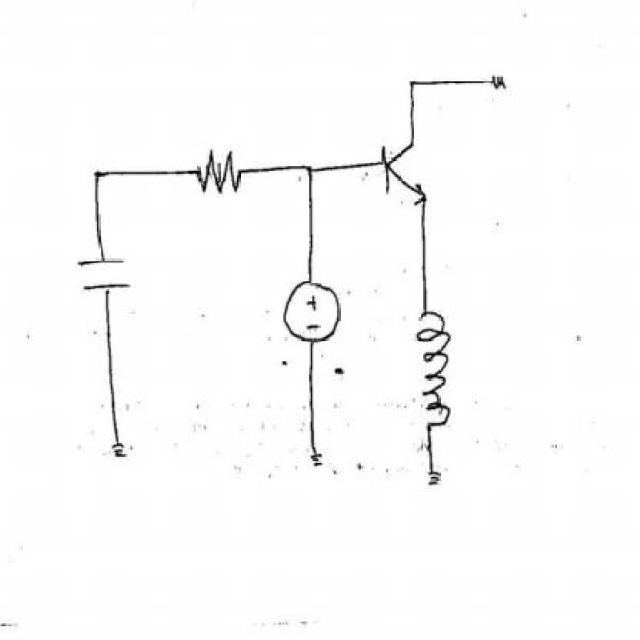capacitor: (76, 250, 134, 300)
ground: (105, 434, 136, 468), (303, 445, 332, 476), (421, 464, 449, 491), (486, 75, 511, 101)
inductor: (408, 306, 469, 434)
resistor: (194, 135, 246, 199)
transistor: (376, 142, 427, 208)
voltage_source: (277, 276, 345, 352)
